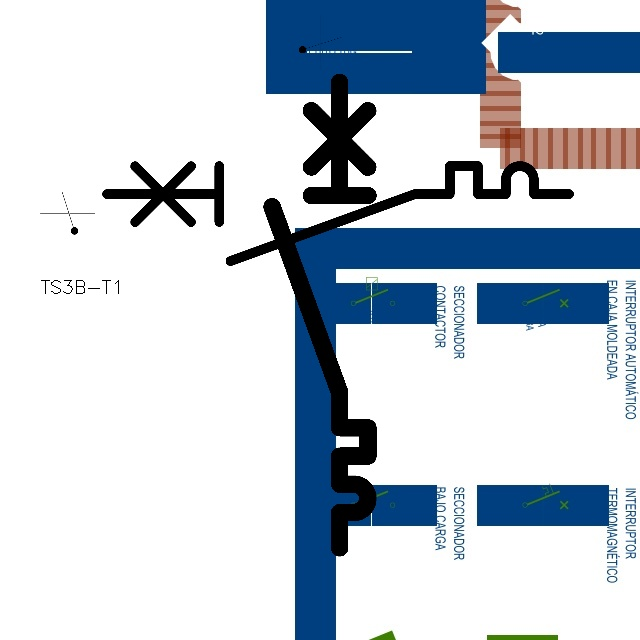interruptor_termomagnetico: (260, 70, 380, 560), (94, 154, 580, 273)
